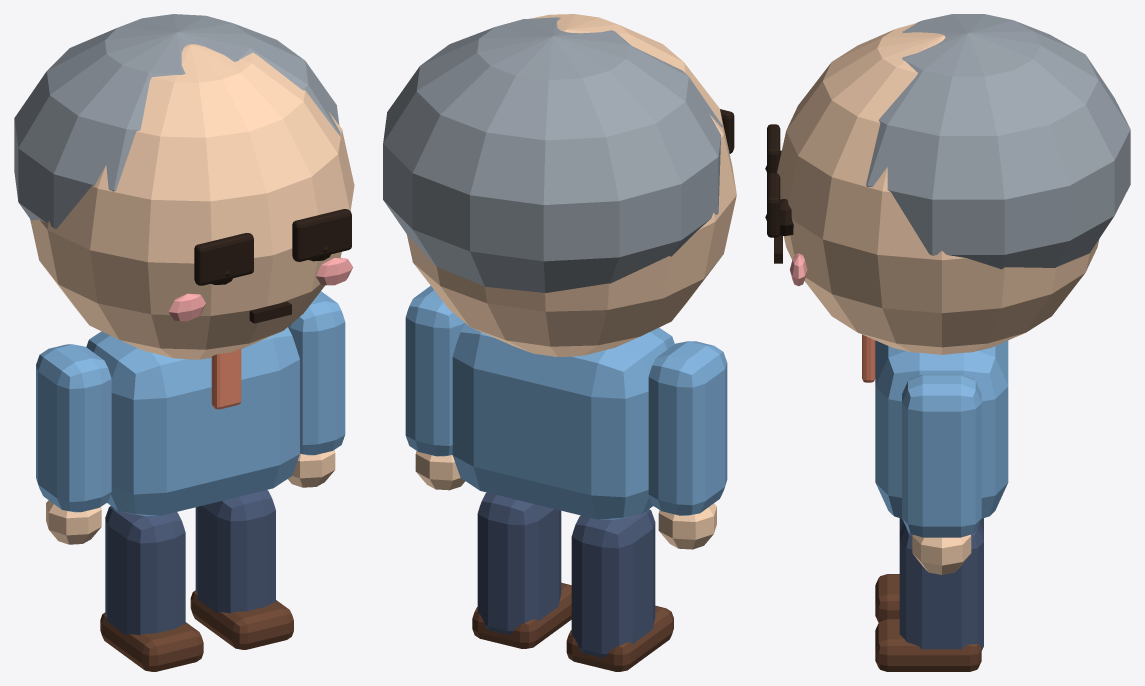
The model's file is kar_penjaga_kampus.fbx.
3 views of the same model, side by side, from view 1: azimuth 30°, elevation 25°; view 2: azimuth 150°, elevation 25°; view 3: azimuth 270°, elevation 25° (orthographic). The views are drawn at different scales.
Visible parts, largest first — view 1: kar_penjaga_kampus; view 2: kar_penjaga_kampus; view 3: kar_penjaga_kampus.
Boxes of the visible parts, x1,y1,x2,y2 form: kar_penjaga_kampus: (14, 14, 354, 671); kar_penjaga_kampus: (383, 14, 736, 671); kar_penjaga_kampus: (765, 14, 1130, 671).
Size of the model in its own units: 76 by 151 by 82.44.
1 material, 1 textured.
